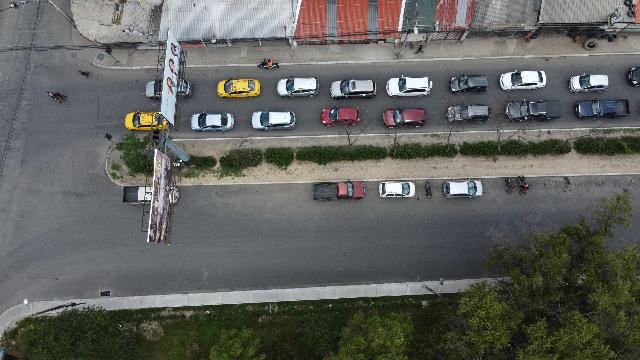Vehiculo: (505, 100, 561, 122), (575, 99, 629, 118), (386, 76, 432, 98), (125, 110, 168, 132), (329, 79, 376, 99), (499, 70, 546, 90), (312, 182, 364, 200), (277, 76, 319, 98), (252, 109, 296, 130), (145, 79, 191, 99), (382, 108, 426, 128), (190, 112, 234, 132), (218, 78, 260, 98), (447, 104, 489, 124), (449, 74, 488, 94), (321, 106, 359, 126), (568, 75, 608, 93), (138, 186, 178, 204), (443, 180, 482, 198), (379, 182, 415, 198), (628, 67, 640, 87)
